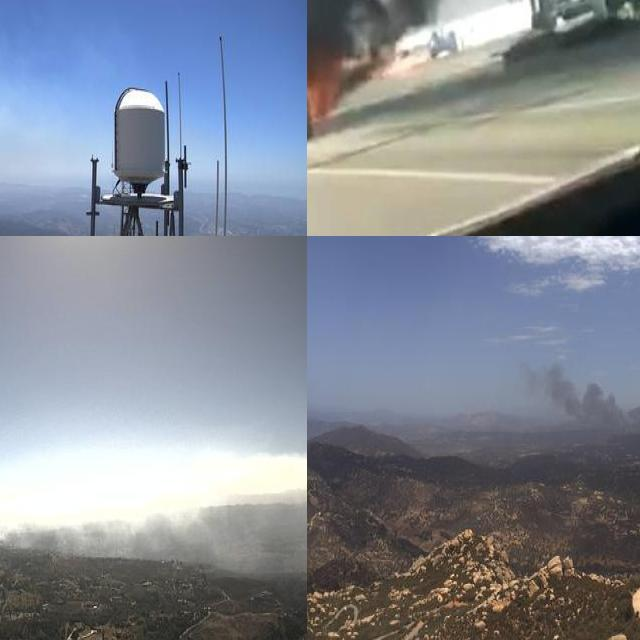fire: (307, 38, 340, 158)
smoke: (0, 453, 307, 575), (514, 348, 640, 448)
